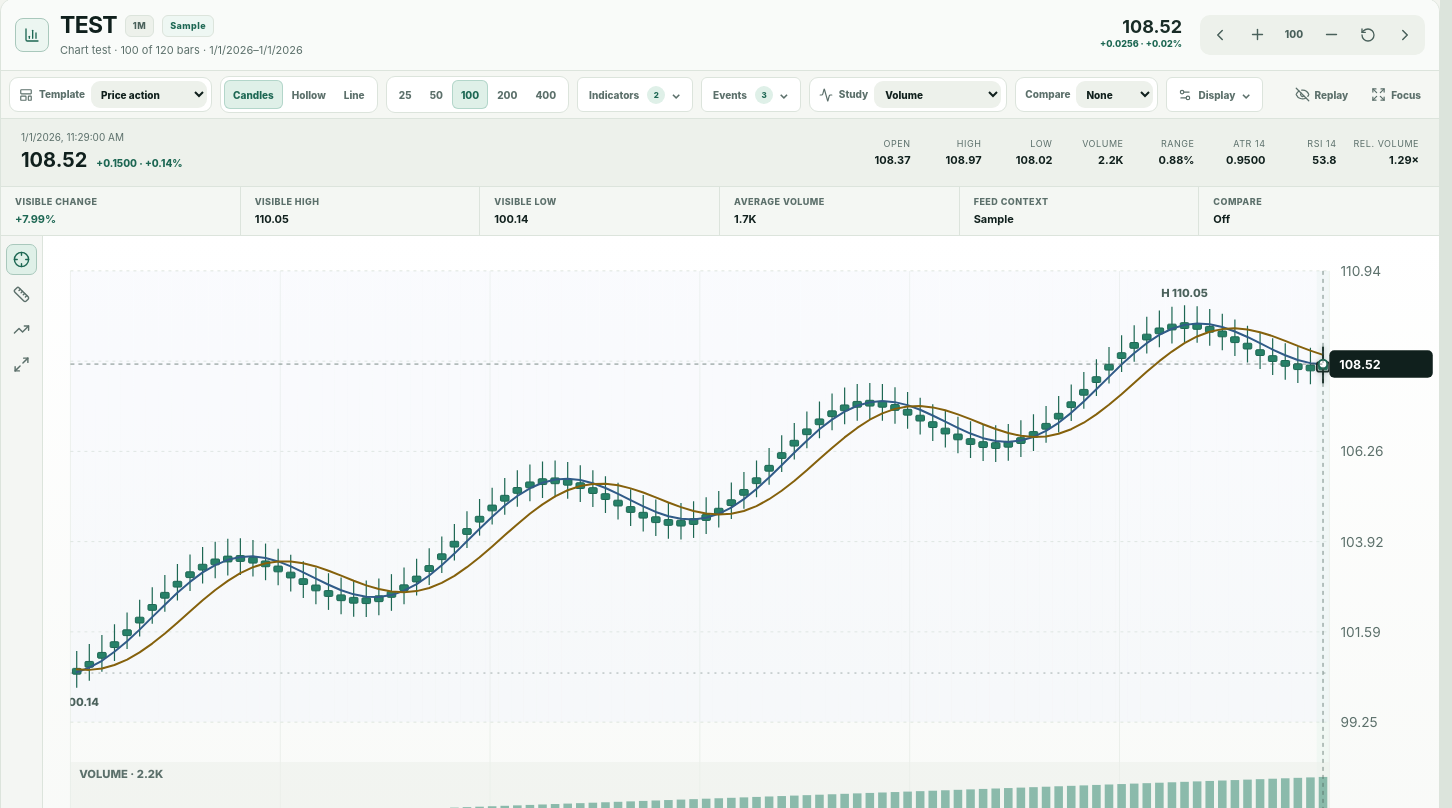
Test: MarketChart › switches studies and exposes advanced indicators without cluttering defaults
Select "RSI 14" in the dropdown named "Lower chart study": (938, 95) x1=874 y1=81 x2=1001 y2=108
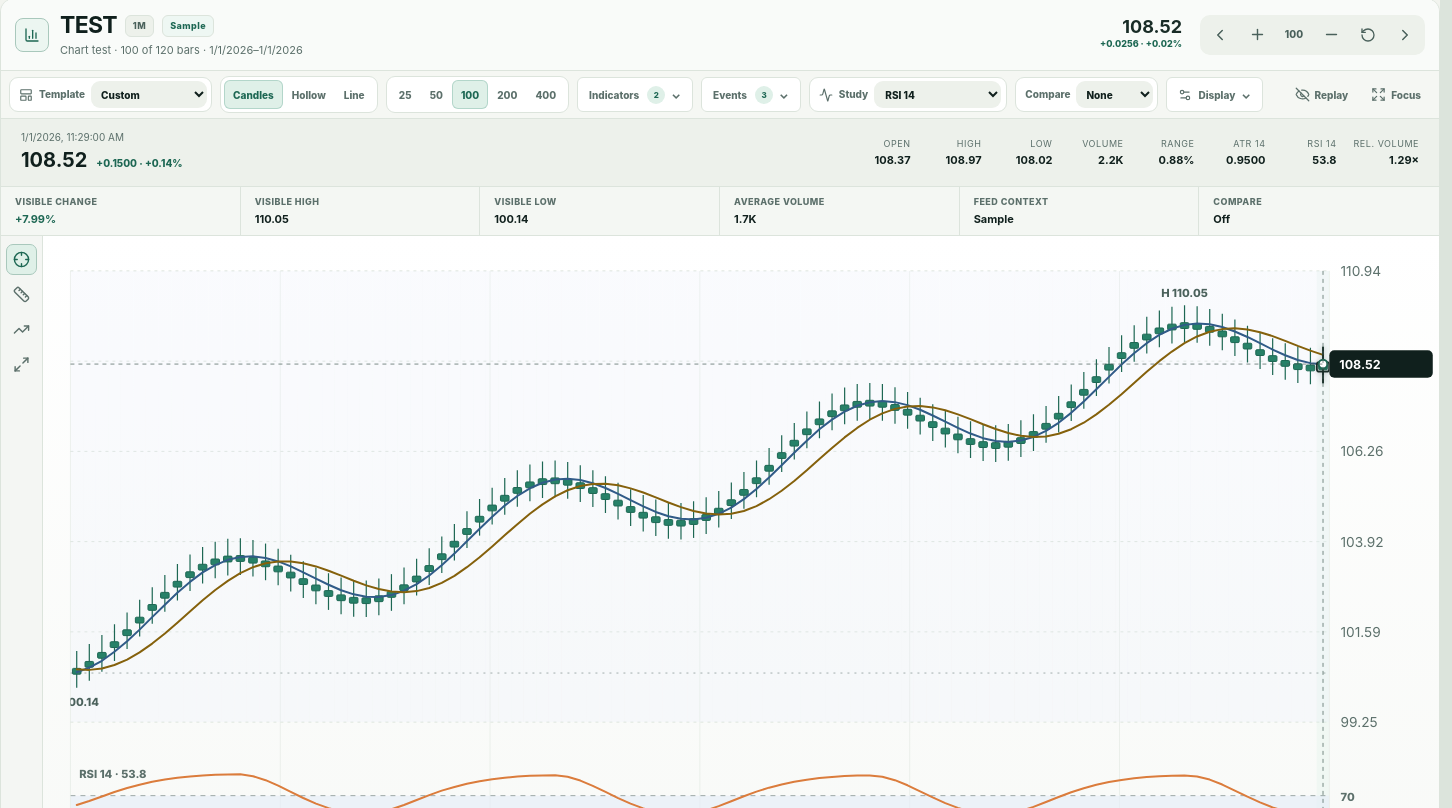
Click the button with aria-label "Technical indicators": (635, 95) x1=577 y1=77 x2=693 y2=112
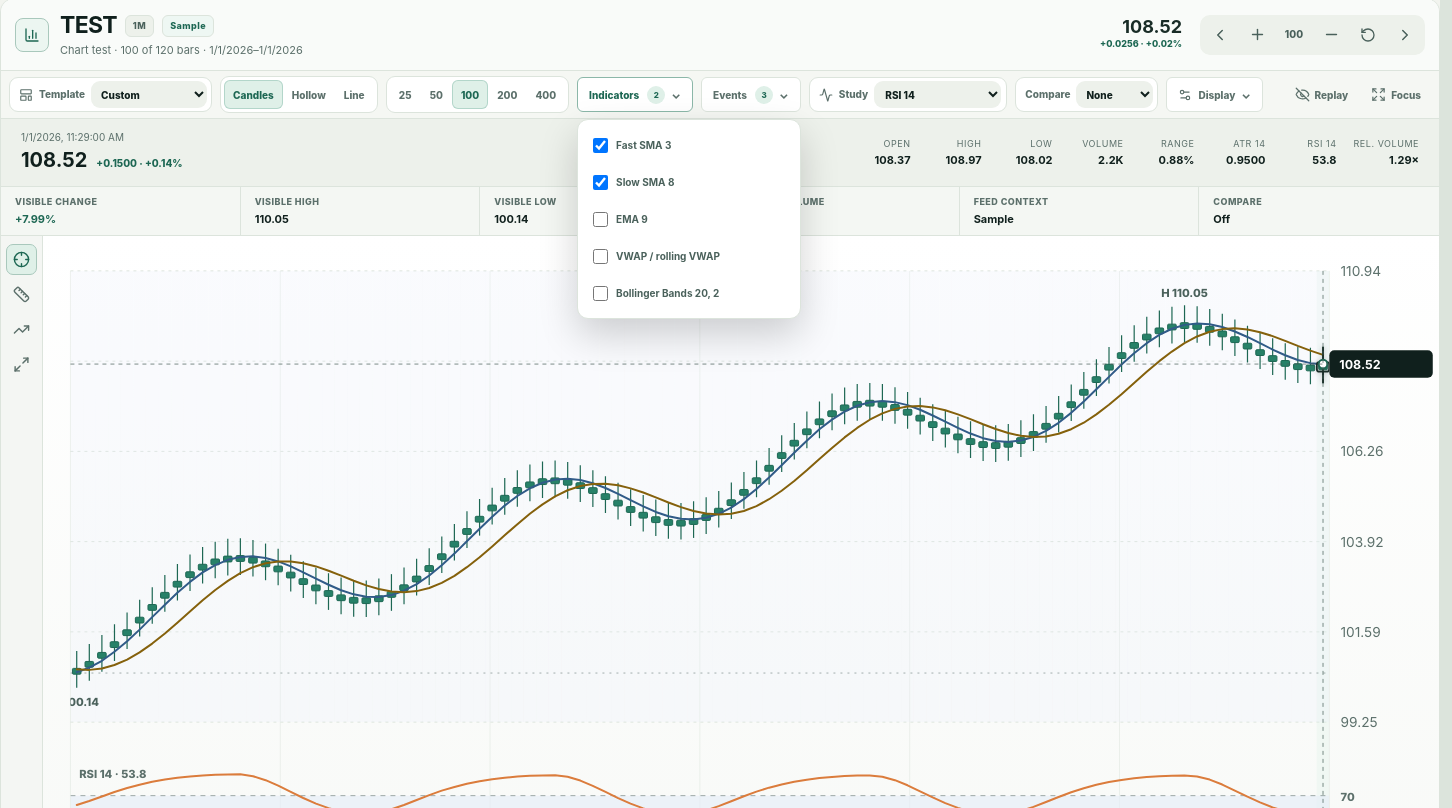
Click the checkbox labelled "VWAP / rolling VWAP": (601, 256) x1=593 y1=249 x2=608 y2=264
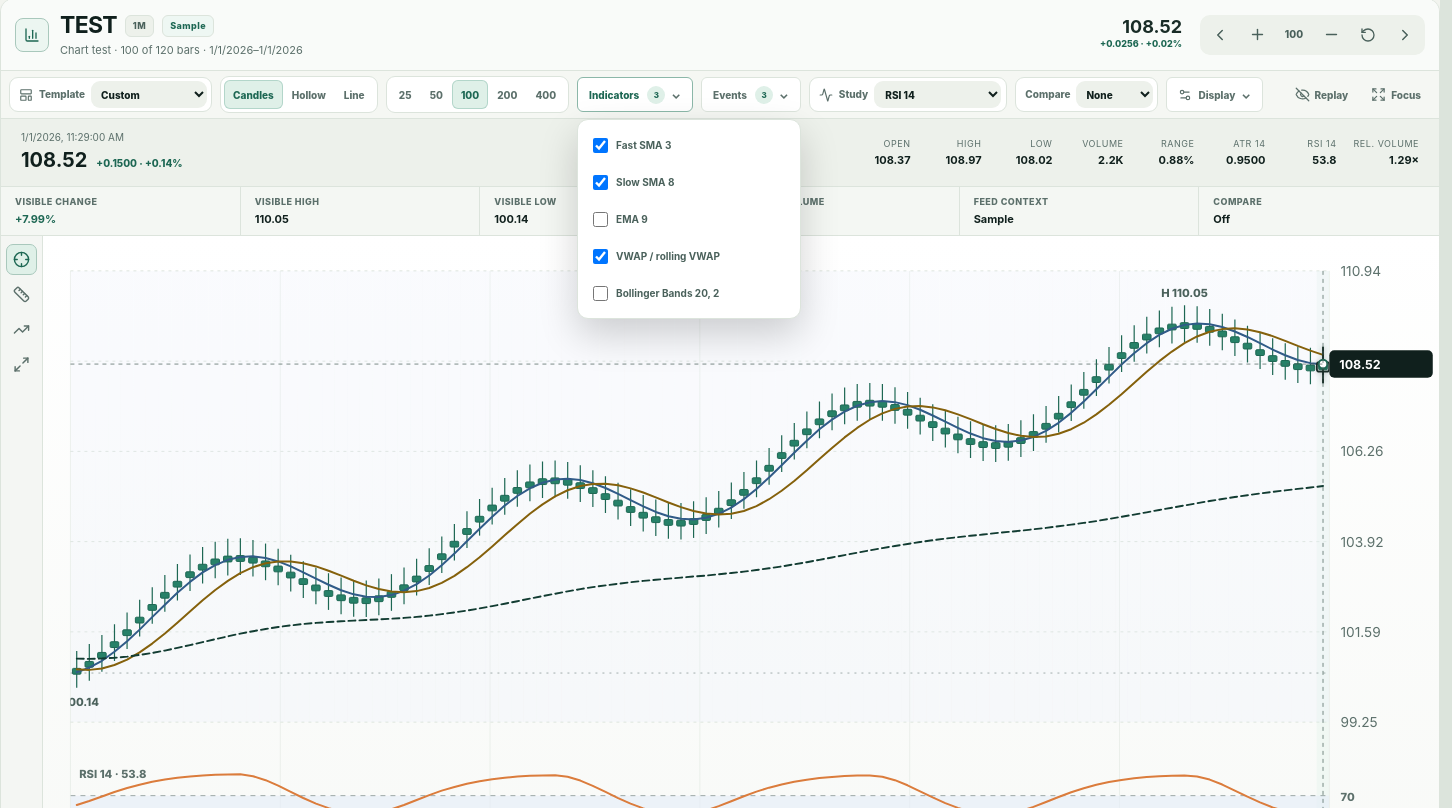
Click the checkbox labelled "Bollinger Bands 20, 2": (601, 293) x1=593 y1=286 x2=608 y2=301
(page scrolled)
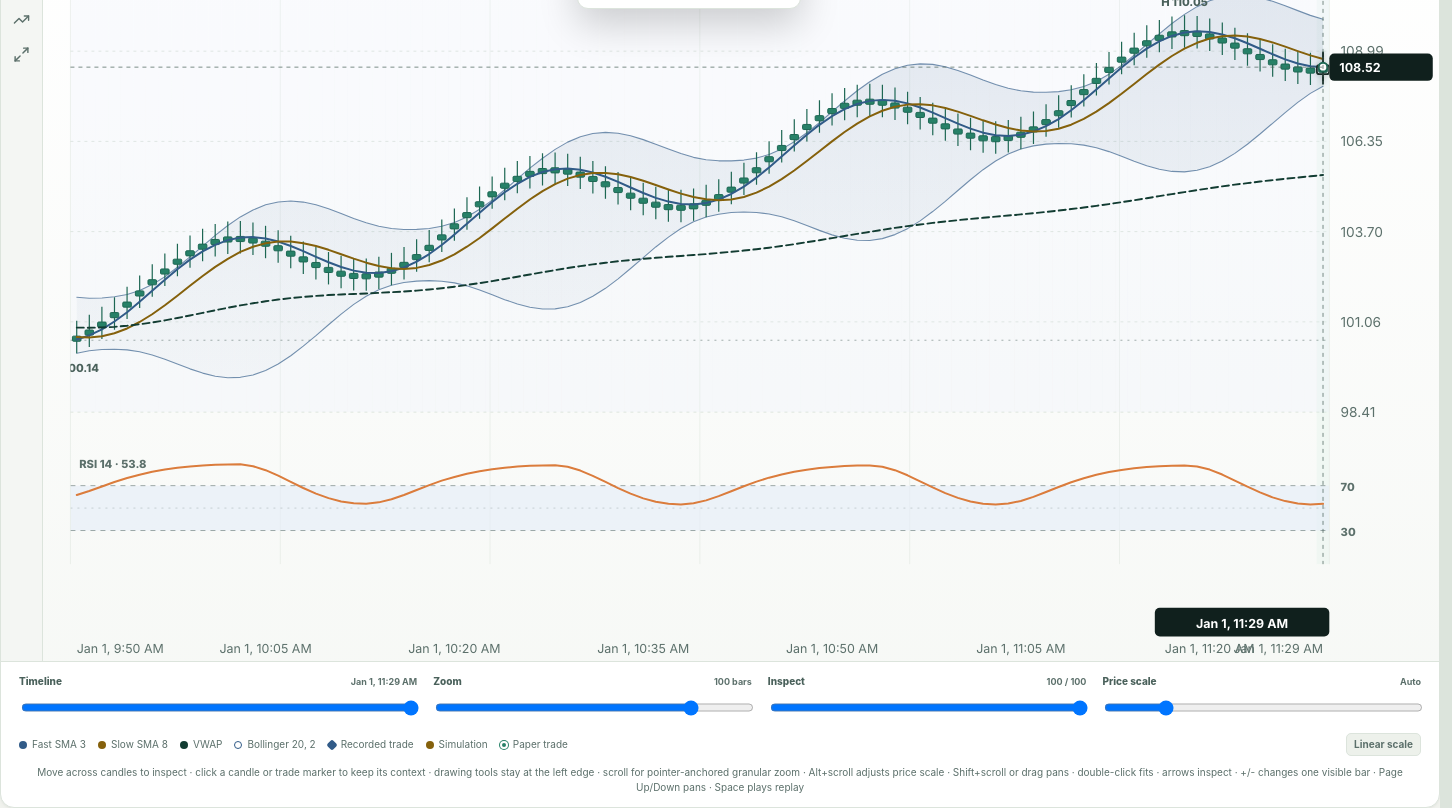
expect the text "VWAP" is shown: met, box x1=180 y1=738 x2=222 y2=752
expect the text "Bollinger 20, 2" is shown: met, box x1=234 y1=738 x2=316 y2=752
